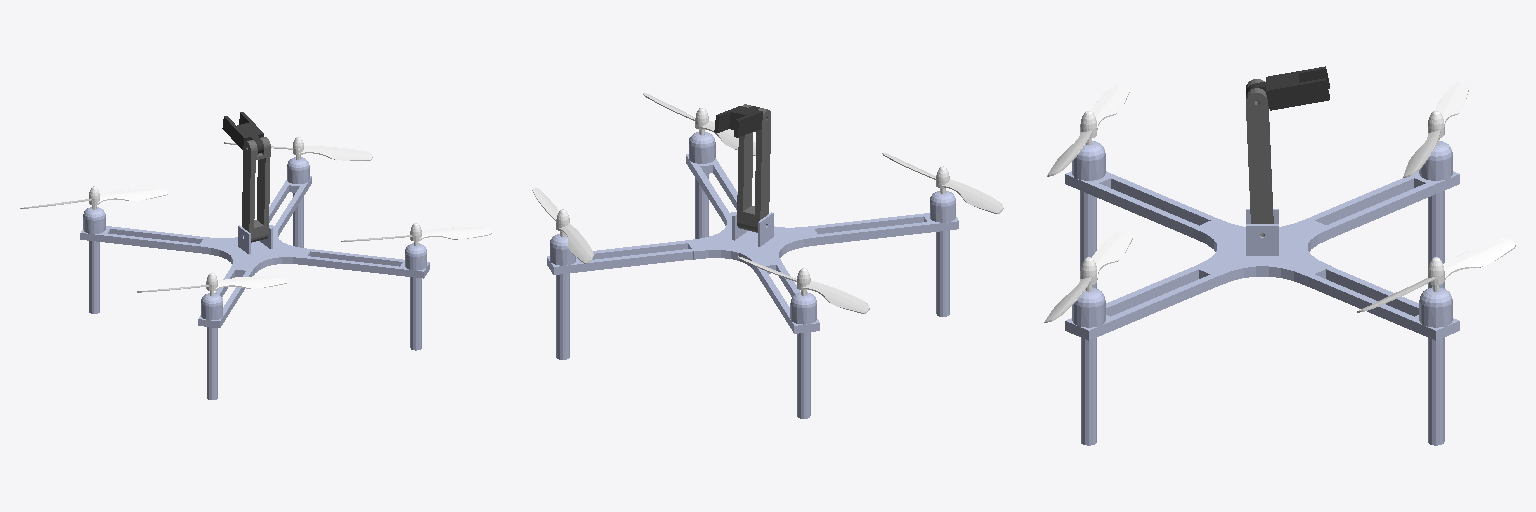
URDF robot description (manipulator_drone):
<?xml version="1.0" encoding="utf-8"?>
<!-- This URDF was automatically created by SolidWorks to URDF Exporter! Originally created by [author] ([email redacted]) 
     Commit Version: 1.6.0-4-g7f85cfe  Build Version: 1.6.7995.38578
     For more information, please see http://wiki.ros.org/sw_urdf_exporter -->
<robot
  name="manipulator_drone">
  <link
    name="base_link">
    <inertial>
      <origin
        xyz="0.141452806250045 0.213872102188247 0.268022885593013"
        rpy="0 0 0" />
      <mass
        value="0.376485958847895" />
      <inertia
        ixx="0.00599866182917377"
        ixy="-5.71160033180147E-08"
        ixz="1.36031685774139E-06"
        iyy="0.0112555868666883"
        iyz="5.22807789062921E-07"
        izz="0.00599669939937149" />
    </inertial>
    <visual>
      <origin
        xyz="0 0 0"
        rpy="0 0 0" />
      <geometry>
        <mesh
          filename="package://manipulator_drone/meshes/base_link.STL" />
      </geometry>
      <material
        name="">
        <color
          rgba="0.792156862745098 0.819607843137255 0.933333333333333 1" />
      </material>
    </visual>
    <collision>
      <origin
        xyz="0 0 0"
        rpy="0 0 0" />
      <geometry>
        <mesh
          filename="package://manipulator_drone/meshes/base_link.STL" />
      </geometry>
    </collision>
  </link>
  <link
    name="prop1">
    <inertial>
      <origin
        xyz="0.015674 5.3103E-07 2.1609E-08"
        rpy="0 0 0" />
      <mass
        value="0.012431" />
      <inertia
        ixx="2.5392E-05"
        ixy="5.8618E-11"
        ixz="-3.5813E-13"
        iyy="2.548E-05"
        iyz="-2.8652E-07"
        izz="5.1399E-07" />
    </inertial>
    <visual>
      <origin
        xyz="0 0 0"
        rpy="0 0 0" />
      <geometry>
        <mesh
          filename="package://manipulator_drone/meshes/prop1.STL" />
      </geometry>
      <material
        name="">
        <color
          rgba="1 1 1 1" />
      </material>
    </visual>
    <collision>
      <origin
        xyz="0 0 0"
        rpy="0 0 0" />
      <geometry>
        <mesh
          filename="package://manipulator_drone/meshes/prop1.STL" />
      </geometry>
    </collision>
  </link>
  <joint
    name="prop1"
    type="revolute">
    <origin
      xyz="0.297 -0.42359 0.25709"
      rpy="2.8056 -1.5708 0" />
    <parent
      link="base_link" />
    <child
      link="prop1" />
    <axis
      xyz="1 0 0" />
    <limit
      lower="0"
      upper="0"
      effort="0"
      velocity="0" />
  </joint>
  <link
    name="prop2">
    <inertial>
      <origin
        xyz="0.015674 5.3103E-07 2.1609E-08"
        rpy="0 0 0" />
      <mass
        value="0.012431" />
      <inertia
        ixx="2.5392E-05"
        ixy="5.8618E-11"
        ixz="-3.5813E-13"
        iyy="2.548E-05"
        iyz="-2.8652E-07"
        izz="5.1399E-07" />
    </inertial>
    <visual>
      <origin
        xyz="0 0 0"
        rpy="0 0 0" />
      <geometry>
        <mesh
          filename="package://manipulator_drone/meshes/prop2.STL" />
      </geometry>
      <material
        name="">
        <color
          rgba="1 1 1 1" />
      </material>
    </visual>
    <collision>
      <origin
        xyz="0 0 0"
        rpy="0 0 0" />
      <geometry>
        <mesh
          filename="package://manipulator_drone/meshes/prop2.STL" />
      </geometry>
    </collision>
  </link>
  <joint
    name="prop2"
    type="revolute">
    <origin
      xyz="0.297 -0.11246 0.25709"
      rpy="2.4199 -1.5708 0" />
    <parent
      link="base_link" />
    <child
      link="prop2" />
    <axis
      xyz="1 0 0" />
    <limit
      lower="0"
      upper="0"
      effort="0"
      velocity="0" />
  </joint>
  <link
    name="prop3">
    <inertial>
      <origin
        xyz="0.015674 5.3103E-07 2.1609E-08"
        rpy="0 0 0" />
      <mass
        value="0.012431" />
      <inertia
        ixx="2.5392E-05"
        ixy="5.8618E-11"
        ixz="-3.5813E-13"
        iyy="2.548E-05"
        iyz="-2.8652E-07"
        izz="5.1399E-07" />
    </inertial>
    <visual>
      <origin
        xyz="0 0 0"
        rpy="0 0 0" />
      <geometry>
        <mesh
          filename="package://manipulator_drone/meshes/prop3.STL" />
      </geometry>
      <material
        name="">
        <color
          rgba="1 1 1 1" />
      </material>
    </visual>
    <collision>
      <origin
        xyz="0 0 0"
        rpy="0 0 0" />
      <geometry>
        <mesh
          filename="package://manipulator_drone/meshes/prop3.STL" />
      </geometry>
    </collision>
  </link>
  <joint
    name="prop3"
    type="revolute">
    <origin
      xyz="-0.014129 -0.11246 0.25709"
      rpy="2.9173 -1.5708 0" />
    <parent
      link="base_link" />
    <child
      link="prop3" />
    <axis
      xyz="1 0 0" />
    <limit
      lower="0"
      upper="0"
      effort="0"
      velocity="0" />
  </joint>
  <link
    name="prop4">
    <inertial>
      <origin
        xyz="0.015674 5.3103E-07 2.1609E-08"
        rpy="0 0 0" />
      <mass
        value="0.012431" />
      <inertia
        ixx="2.5392E-05"
        ixy="5.8618E-11"
        ixz="-3.5813E-13"
        iyy="2.548E-05"
        iyz="-2.8652E-07"
        izz="5.1399E-07" />
    </inertial>
    <visual>
      <origin
        xyz="0 0 0"
        rpy="0 0 0" />
      <geometry>
        <mesh
          filename="package://manipulator_drone/meshes/prop4.STL" />
      </geometry>
      <material
        name="">
        <color
          rgba="1 1 1 1" />
      </material>
    </visual>
    <collision>
      <origin
        xyz="0 0 0"
        rpy="0 0 0" />
      <geometry>
        <mesh
          filename="package://manipulator_drone/meshes/prop4.STL" />
      </geometry>
    </collision>
  </link>
  <joint
    name="prop4"
    type="revolute">
    <origin
      xyz="-0.014129 -0.42359 0.25709"
      rpy="2.8341 -1.5708 0" />
    <parent
      link="base_link" />
    <child
      link="prop4" />
    <axis
      xyz="1 0 0" />
    <limit
      lower="0"
      upper="0"
      effort="0"
      velocity="0" />
  </joint>
  <link
    name="arm1">
    <inertial>
      <origin
        xyz="0.015 0.060915 -3.8858E-16"
        rpy="0 0 0" />
      <mass
        value="0.068734" />
      <inertia
        ixx="0.00014566"
        ixy="-9.7142E-19"
        ixz="3.5965E-20"
        iyy="9.8878E-06"
        iyz="4.3672E-19"
        izz="0.00015105" />
    </inertial>
    <visual>
      <origin
        xyz="0 0 0"
        rpy="0 0 0" />
      <geometry>
        <mesh
          filename="package://manipulator_drone/meshes/arm1.STL" />
      </geometry>
      <material
        name="">
        <color
          rgba="0.49804 0.49804 0.49804 1" />
      </material>
    </visual>
    <collision>
      <origin
        xyz="0 0 0"
        rpy="0 0 0" />
      <geometry>
        <mesh
          filename="package://manipulator_drone/meshes/arm1.STL" />
      </geometry>
    </collision>
  </link>
  <joint
    name="manipulator_joint_1"
    type="revolute">
    <origin
      xyz="0.12643 -0.26803 0.24709"
      rpy="1.6095 0 0" />
    <parent
      link="base_link" />
    <child
      link="arm1" />
    <axis
      xyz="1 0 0" />
    <limit
      lower="0"
      upper="0"
      effort="0"
      velocity="0" />
  </joint>
  <link
    name="arm2">
    <inertial>
      <origin
        xyz="0.015 0.027141 1.6653E-16"
        rpy="0 0 0" />
      <mass
        value="0.034551" />
      <inertia
        ixx="1.073E-05"
        ixy="4.3736E-20"
        ixz="1.4977E-20"
        iyy="3.9851E-06"
        iyz="-2.2552E-20"
        izz="1.243E-05" />
    </inertial>
    <visual>
      <origin
        xyz="0 0 0"
        rpy="0 0 0" />
      <geometry>
        <mesh
          filename="package://manipulator_drone/meshes/arm2.STL" />
      </geometry>
      <material
        name="">
        <color
          rgba="0.29804 0.29804 0.29804 1" />
      </material>
    </visual>
    <collision>
      <origin
        xyz="0 0 0"
        rpy="0 0 0" />
      <geometry>
        <mesh
          filename="package://manipulator_drone/meshes/arm2.STL" />
      </geometry>
    </collision>
  </link>
  <joint
    name="manipulator_joint_2"
    type="revolute">
    <origin
      xyz="0 0.13 0"
      rpy="-1.4188 0 0" />
    <parent
      link="arm1" />
    <child
      link="arm2" />
    <axis
      xyz="1 0 0" />
    <limit
      lower="0"
      upper="0"
      effort="0"
      velocity="0" />
  </joint>
</robot>

--- What the picture shows (computed from the rendered views, not written in the file) ---
3 views of the same robot in one strip: view 1: azimuth 30°, elevation 25°; view 2: azimuth 150°, elevation 25°; view 3: azimuth 270°, elevation 25° (orthographic).
Model manipulator_drone with 7 links and 6 joints (6 revolute), rooted at base_link, posed every joint at zero.
Links seen in each view (by area): view 1: base_link, arm1, prop4, prop1, prop3, prop2, arm2; view 2: base_link, arm1, prop3, prop4, prop2, arm2, prop1; view 3: base_link, arm1, arm2, prop2, prop1, prop4, prop3.
Boxes of the visible links, x1,y1,x2,y2 form: base_link: (80,157,429,399); arm1: (242,137,270,242); prop4: (137,273,286,295); prop1: (341,223,491,245); prop3: (20,186,167,209); prop2: (224,137,372,160); arm2: (222,112,263,153); base_link: (547,132,958,418); arm1: (737,104,770,232); prop3: (738,256,869,313); prop4: (882,153,1003,213); prop2: (532,188,593,263); arm2: (714,106,762,137); prop1: (643,93,755,155); base_link: (1065,141,1459,445); arm1: (1246,79,1273,236); arm2: (1246,66,1329,110); prop2: (1357,239,1515,312); prop1: (1044,230,1132,322); prop4: (1047,83,1129,176); prop3: (1403,82,1468,177).
Size in the robot's own frame: 0.5036 by 0.4221 by 0.292 metres.
Meshes: 7 distinct files referenced, 7 mesh visuals loaded (7 binary STL).